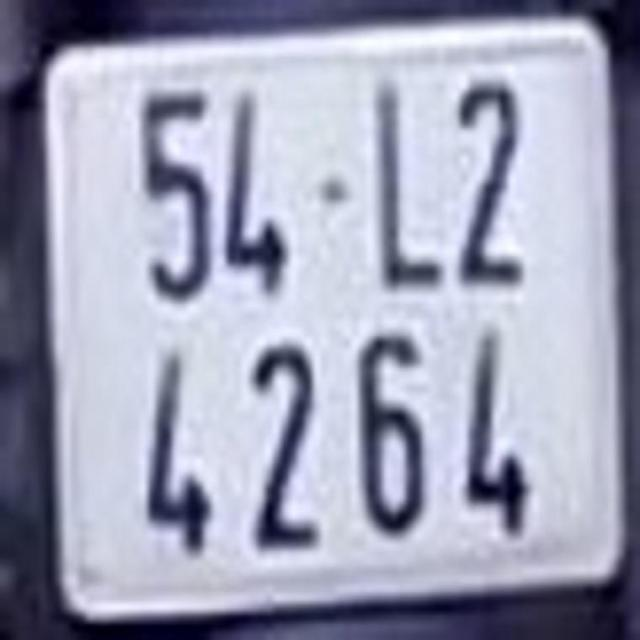2: (241, 339, 322, 552), (453, 76, 526, 292)
4: (135, 350, 222, 566), (455, 316, 531, 550), (218, 82, 292, 297)
5: (138, 86, 217, 300)
6: (350, 325, 433, 538)
L: (357, 76, 446, 294)
